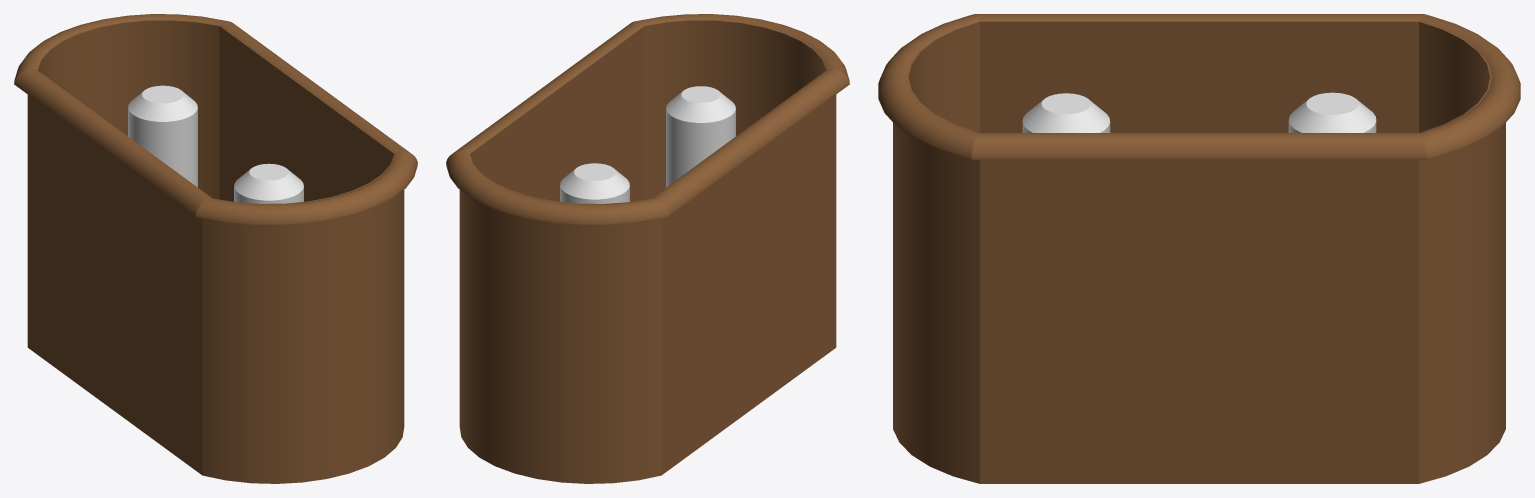
The model's file is eurov.glb.
The picture shows the model from 3 angles, left to right: view 1: azimuth 30°, elevation 25°; view 2: azimuth 150°, elevation 25°; view 3: azimuth 270°, elevation 25°; orthographic projection. The views are drawn at different scales.
Parts seen in each view (by area): view 1: EUROv3; view 2: EUROv3; view 3: EUROv3.
Part boxes in pixels (bbox=[...]): EUROv3: bbox=[14, 14, 417, 483]; EUROv3: bbox=[446, 14, 849, 483]; EUROv3: bbox=[878, 14, 1520, 483].
Size of the model in its own units: 22 by 26.14 by 43.89.
